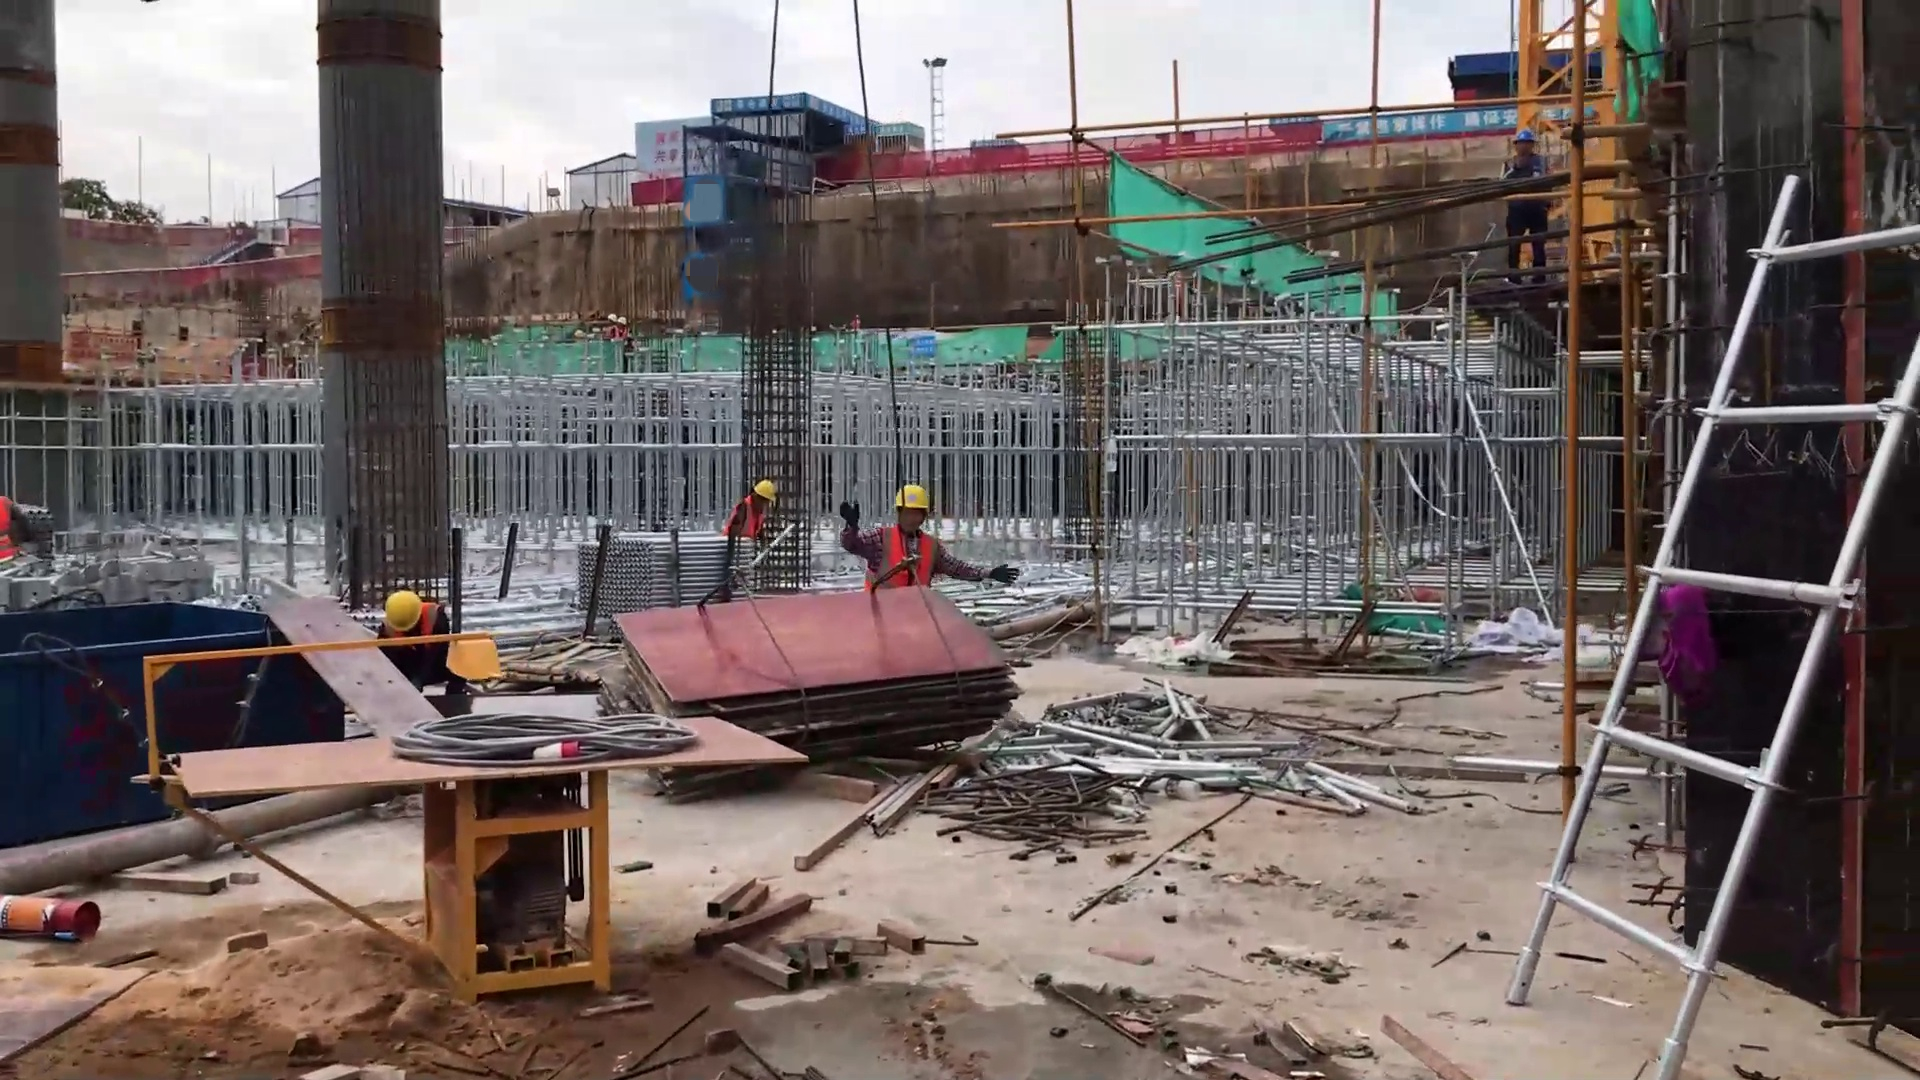board: (604, 579, 1029, 743)
helmet: (887, 486, 929, 515), (750, 468, 778, 498)
hopper: (1, 597, 350, 868)
person: (841, 480, 1019, 596), (1502, 130, 1556, 282), (377, 590, 459, 684), (725, 478, 774, 564)
scaffold: (568, 532, 764, 622)
slogan: (1322, 109, 1524, 134)
vest: (859, 531, 940, 589), (733, 498, 764, 543)
